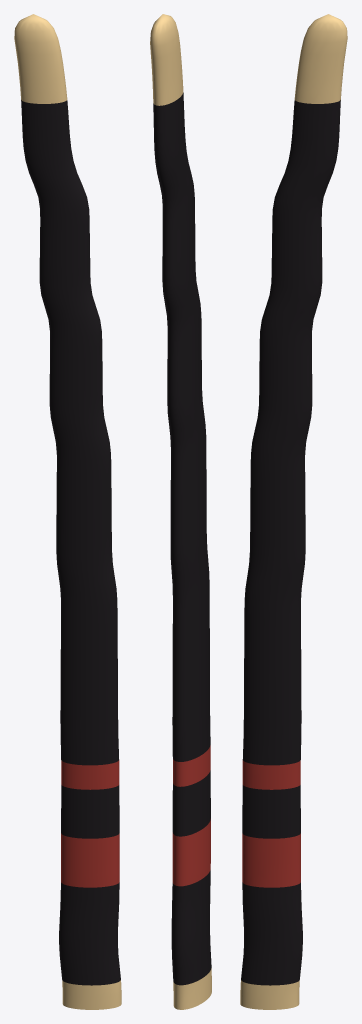
Rendered from saya.glb.
The picture shows the model from 3 angles, left to right: view 1: azimuth 90°, elevation 25°; view 2: azimuth 150°, elevation 25°; view 3: azimuth 270°, elevation 25°; orthographic projection.
Parts seen in each view (by area): view 1: saya; view 2: saya; view 3: saya.
Part boxes in pixels (bbox=[...]): saya: bbox=[14, 14, 121, 1009]; saya: bbox=[150, 14, 211, 1009]; saya: bbox=[240, 14, 347, 1009].
Bounding box in the file's own units: 0.0186 × 0.7354 × 0.0722.
